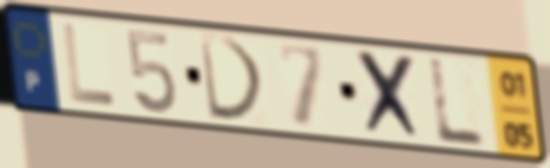5: (123, 26, 180, 116)
7: (275, 41, 328, 130)
D: (196, 31, 270, 124)
L: (426, 55, 491, 150), (59, 20, 120, 109)
X: (352, 46, 428, 145)
